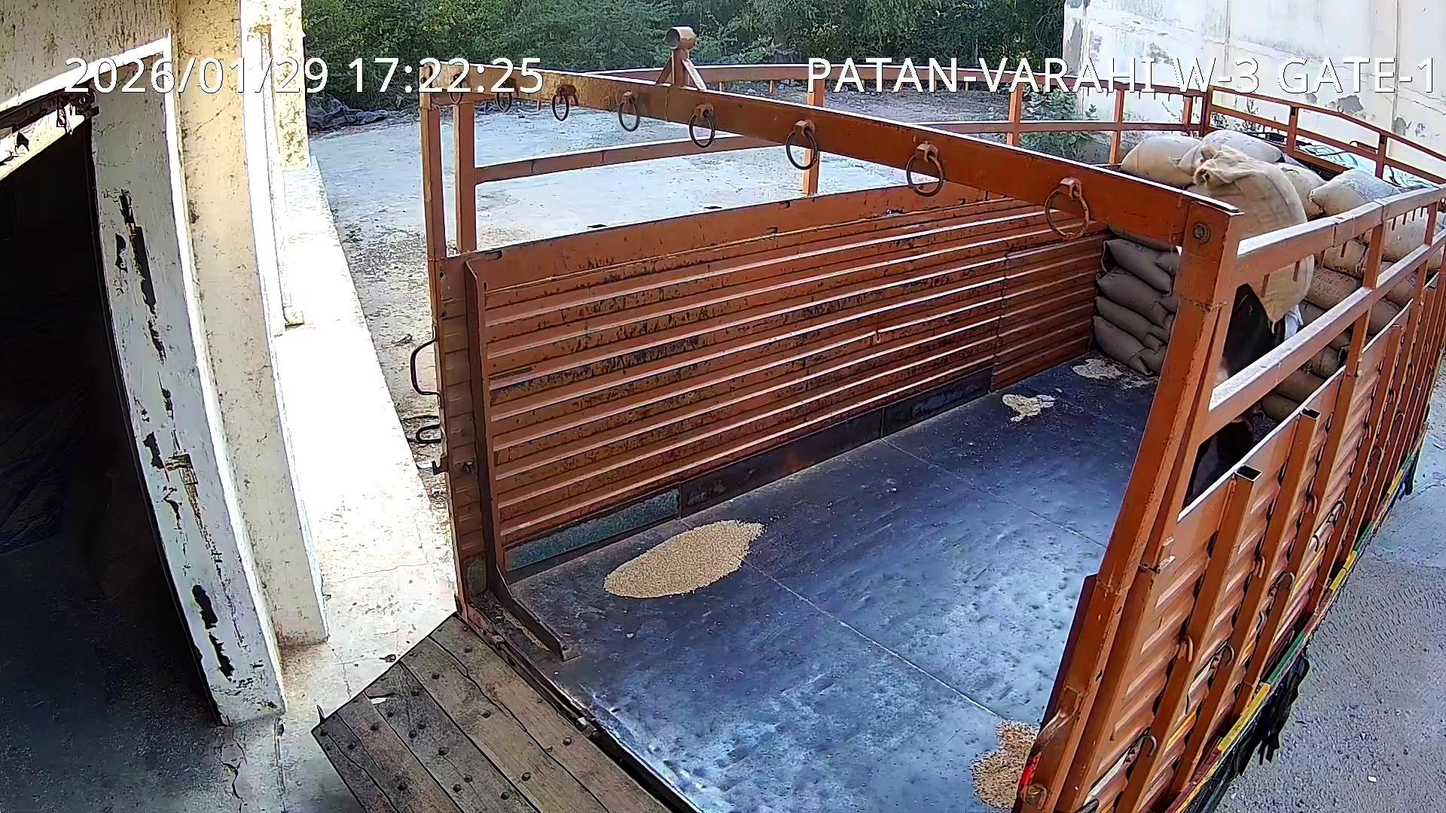Sack: (1188, 145, 1307, 240), (1250, 260, 1313, 326)
